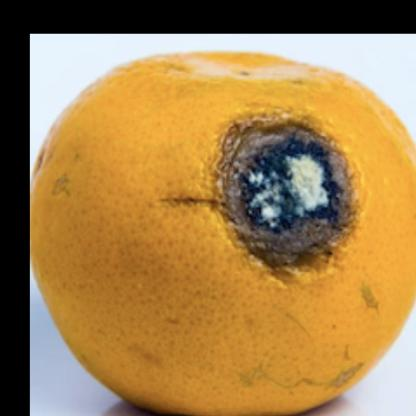rotten: (30, 51, 416, 416)
